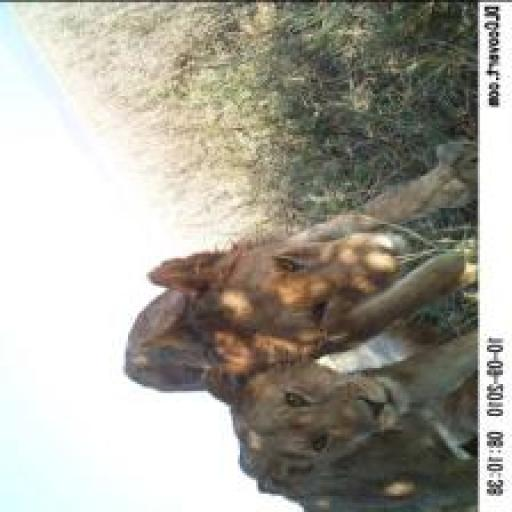lion: (66, 153, 482, 402), (174, 361, 476, 510)
